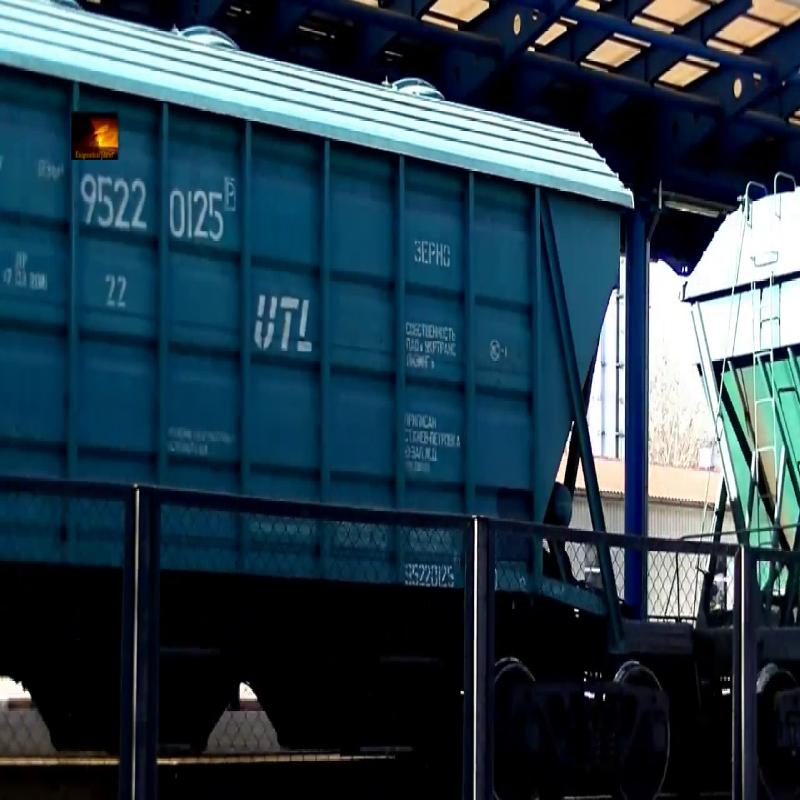train: (1, 1, 653, 761), (678, 1, 800, 740)
